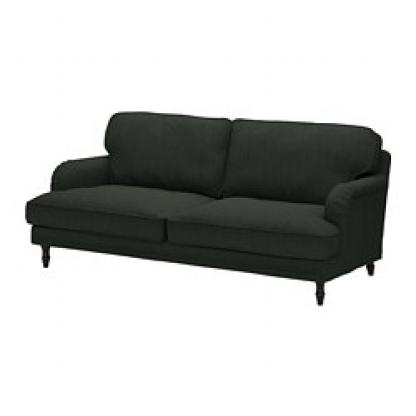Sofa: (20, 93, 391, 311)
